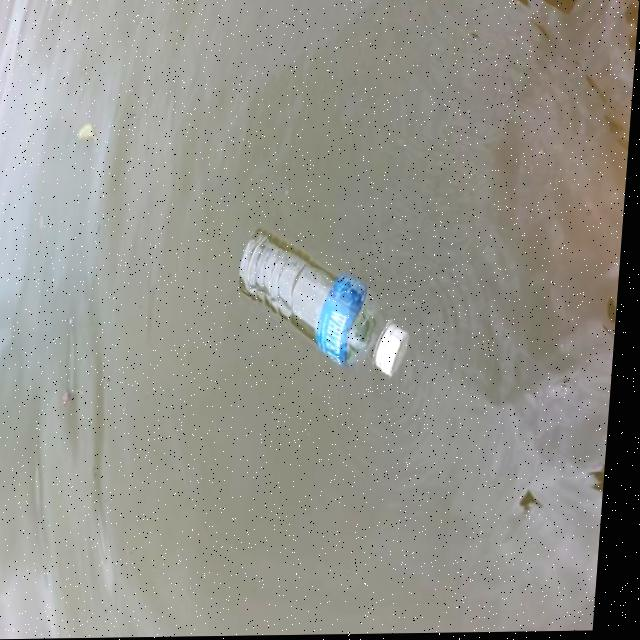waterbottle: (229, 217, 434, 401)
